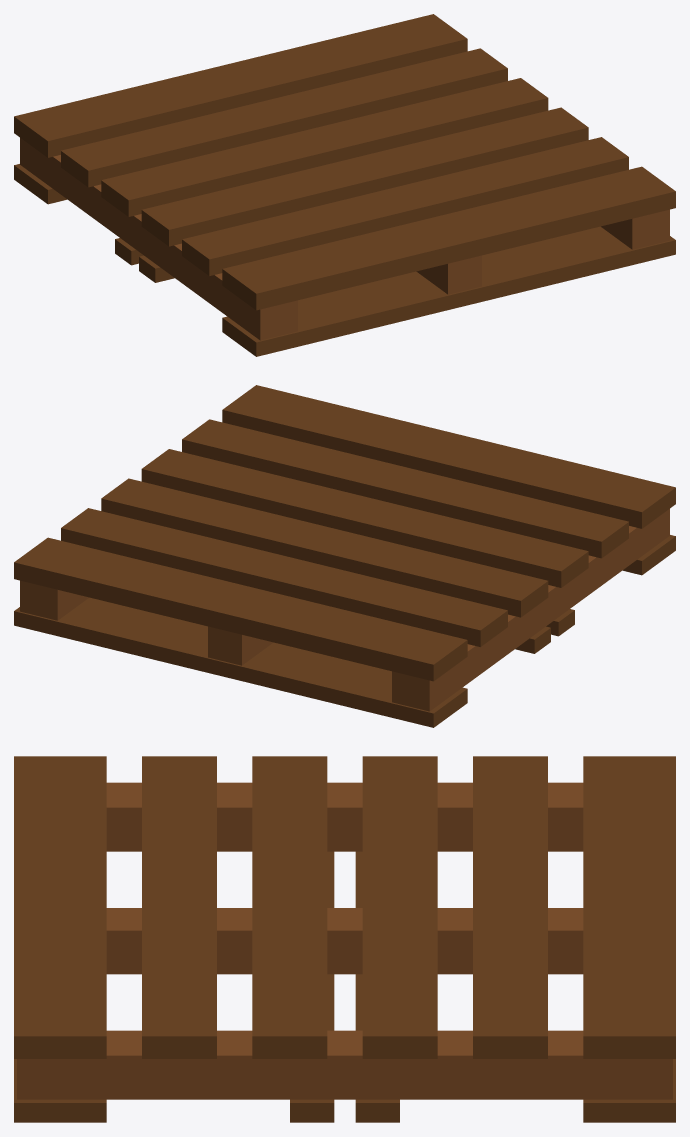
Rendered from Pallet_1_1.fbx.
3 views of the same model, one above another, from view 1: azimuth 30°, elevation 25°; view 2: azimuth 150°, elevation 25°; view 3: azimuth 270°, elevation 25° (orthographic). The views are drawn at different scales.
Parts seen in each view (by area): view 1: Pallet_1_1; view 2: Pallet_1_1; view 3: Pallet_1_1.
Part boxes in pixels (x1,y1,x2,y2): Pallet_1_1: (14,14,675,356); Pallet_1_1: (14,385,675,727); Pallet_1_1: (14,756,675,1122).
Bounding box in the file's own units: 124 × 17.83 × 124.
